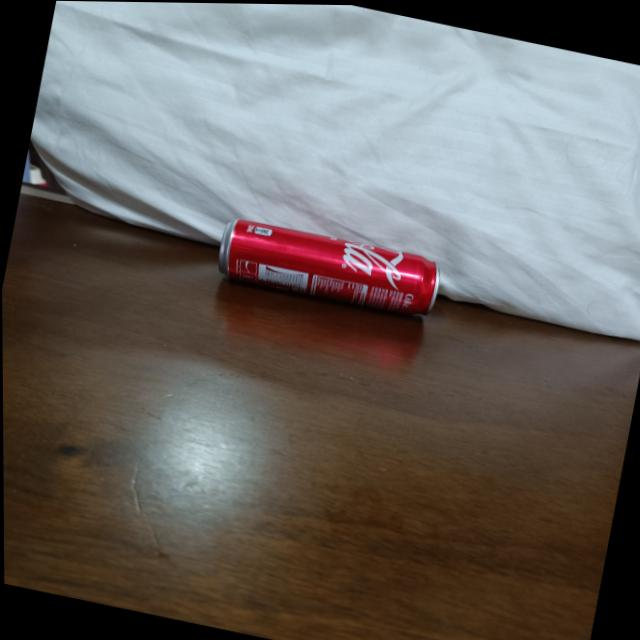coke: (204, 208, 446, 323)
